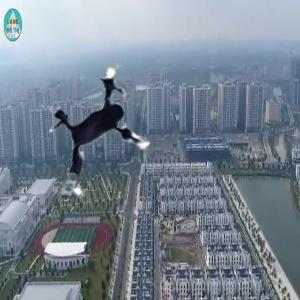drone: (29, 56, 186, 213)
